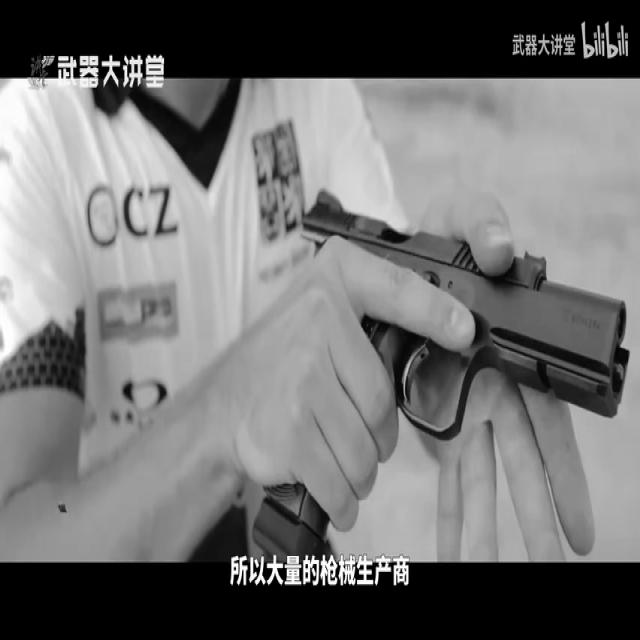Hand-Gun: (238, 0, 639, 564)
